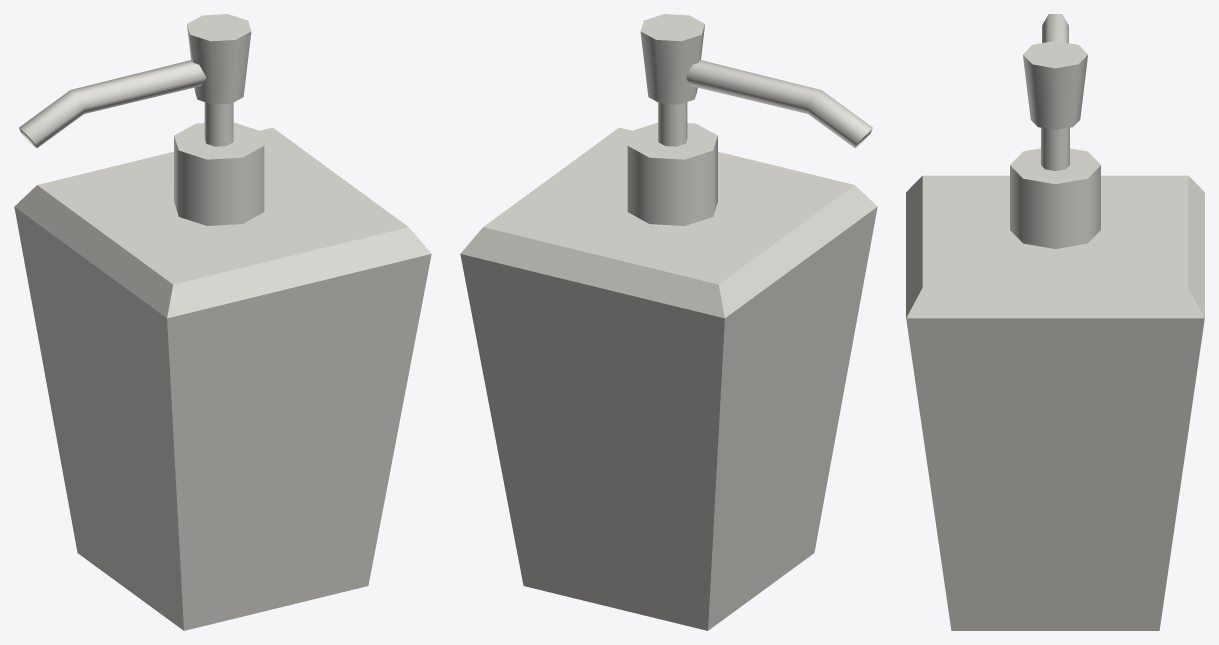
Rendered from bath6.glb.
3 renders of one model, left to right at view 1: azimuth 30°, elevation 25°; view 2: azimuth 150°, elevation 25°; view 3: azimuth 270°, elevation 25°, orthographic. The views are drawn at different scales.
Visible parts, largest first — view 1: node_id375, node_id377; view 2: node_id375, node_id377; view 3: node_id375, node_id377.
Boxes of the visible parts, box(x1,y1,x2,y2) form: node_id375: box(14, 127, 431, 630); node_id377: box(19, 14, 264, 225); node_id375: box(460, 127, 877, 630); node_id377: box(627, 14, 872, 225); node_id375: box(906, 175, 1204, 630); node_id377: box(1010, 14, 1100, 248).
Bounding box in the file's own units: 0.3286 × 0.512 × 0.2612.
Materials: 2 (2 with a texture image).
